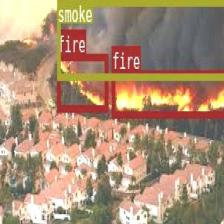fire: (111, 69, 224, 116), (56, 52, 107, 110)
smoke: (56, 0, 224, 78)
